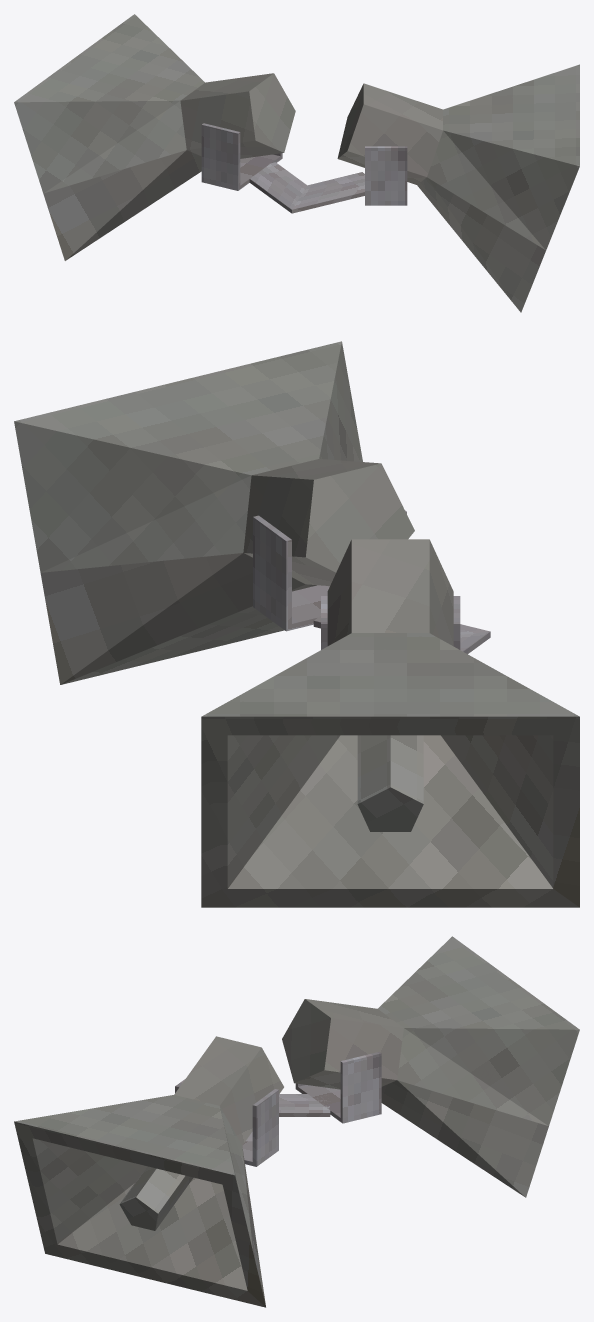
The model's file is Speakers01.obj.
The picture shows the model from 3 angles, top to bottom: view 1: azimuth 30°, elevation 25°; view 2: azimuth 150°, elevation 25°; view 3: azimuth 270°, elevation 25°; orthographic projection. The views are drawn at different scales.
Parts seen in each view (by area): view 1: Speakers01; view 2: Speakers01; view 3: Speakers01.
Boxes of the visible parts, bbox=[...] form: Speakers01: bbox=[14, 14, 579, 312]; Speakers01: bbox=[14, 341, 579, 907]; Speakers01: bbox=[14, 936, 579, 1307].
Size of the model in its own units: 1.58 by 0.5486 by 1.58.
